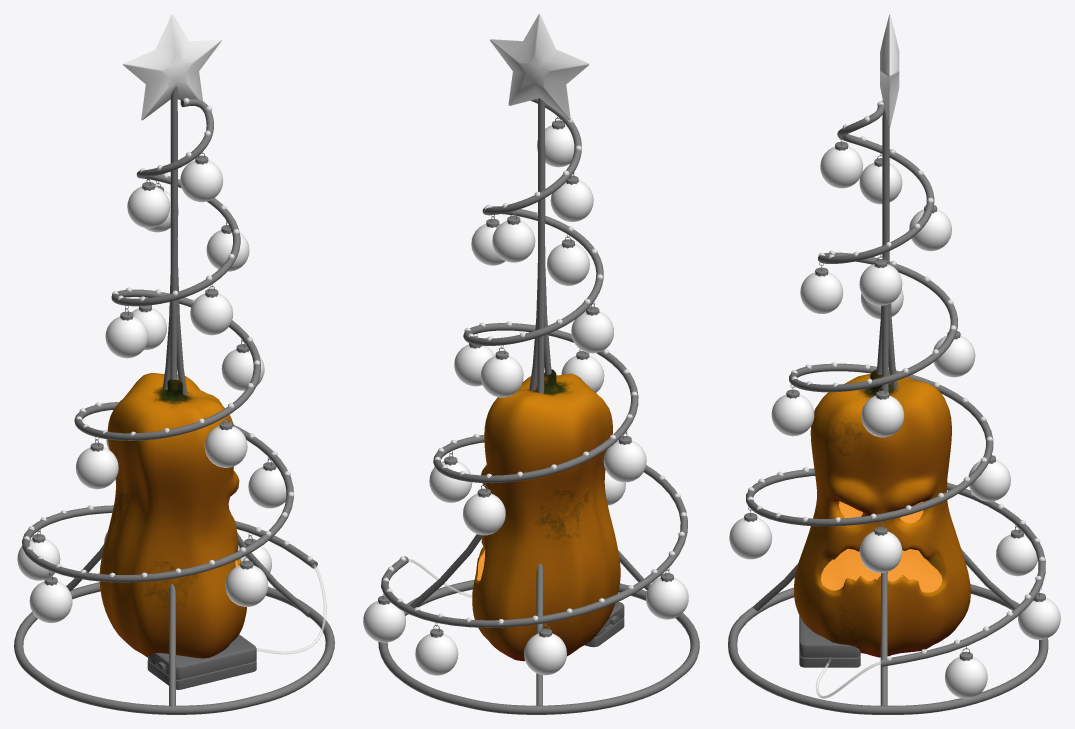
The model's file is blenderKitTestModel.glb.
3 renders of one model, left to right at view 1: azimuth 30°, elevation 25°; view 2: azimuth 150°, elevation 25°; view 3: azimuth 270°, elevation 25°, orthographic.
Visible parts, largest first — view 1: Haloween pumpkin, TreeSpiral, TreeCircle, Star, Box, BezierCurve.001, BezierCurve.003, Ball.006, Ball.005, Ball.001, Ball.0014, Ball.009 (+9 smaller); view 2: Haloween pumpkin, TreeSpiral, Star, TreeCircle, BezierCurve.002, BezierCurve.001, BezierCurve.003, Ball.018, Ball.007, Ball.0011, Ball.003, Ball.0015 (+12 smaller); view 3: Haloween pumpkin, TreeSpiral, TreeCircle, Box, BezierCurve.002, BezierCurve.001, Star, Ball.008, Ball.009, Ball.001, Ball.004, Ball.0016 (+10 smaller).
Part boxes in pixels (x1,y1,x2,y2): Haloween pumpkin: (99, 373, 246, 658); TreeSpiral: (22, 98, 317, 582); TreeCircle: (14, 582, 334, 714); Star: (123, 14, 221, 120); Box: (147, 634, 256, 689); BezierCurve.001: (170, 89, 309, 617); BezierCurve.003: (169, 222, 177, 710); Ball.006: (105, 316, 148, 358); Ball.005: (190, 293, 233, 335); Ball.001: (180, 160, 223, 202); Ball.0014: (29, 581, 72, 622); Ball.009: (204, 426, 247, 467); Haloween pumpkin: (472, 369, 620, 661); TreeSpiral: (381, 98, 687, 627); Star: (490, 14, 589, 120); TreeCircle: (378, 580, 699, 714); BezierCurve.002: (536, 220, 544, 705); BezierCurve.001: (408, 100, 545, 614); BezierCurve.003: (538, 98, 650, 590); Ball.018: (415, 634, 458, 675); Ball.007: (480, 356, 523, 397); Ball.0011: (463, 493, 505, 535); Ball.003: (492, 221, 535, 262); Ball.0015: (524, 633, 566, 675); Haloween pumpkin: (794, 369, 970, 657); TreeSpiral: (746, 101, 1045, 666); TreeCircle: (728, 584, 1048, 714); Box: (799, 615, 860, 667); BezierCurve.002: (882, 100, 1017, 609); BezierCurve.001: (880, 216, 888, 705); Star: (880, 14, 899, 127); Ball.008: (861, 395, 904, 437); Ball.009: (771, 394, 814, 436); Ball.001: (820, 146, 863, 188); Ball.004: (859, 264, 902, 305); Ball.0016: (945, 657, 987, 698).
Bounding box in the file's own units: 3.3 × 7.04 × 3.35.
Materials: 7 (1 with a texture image).
